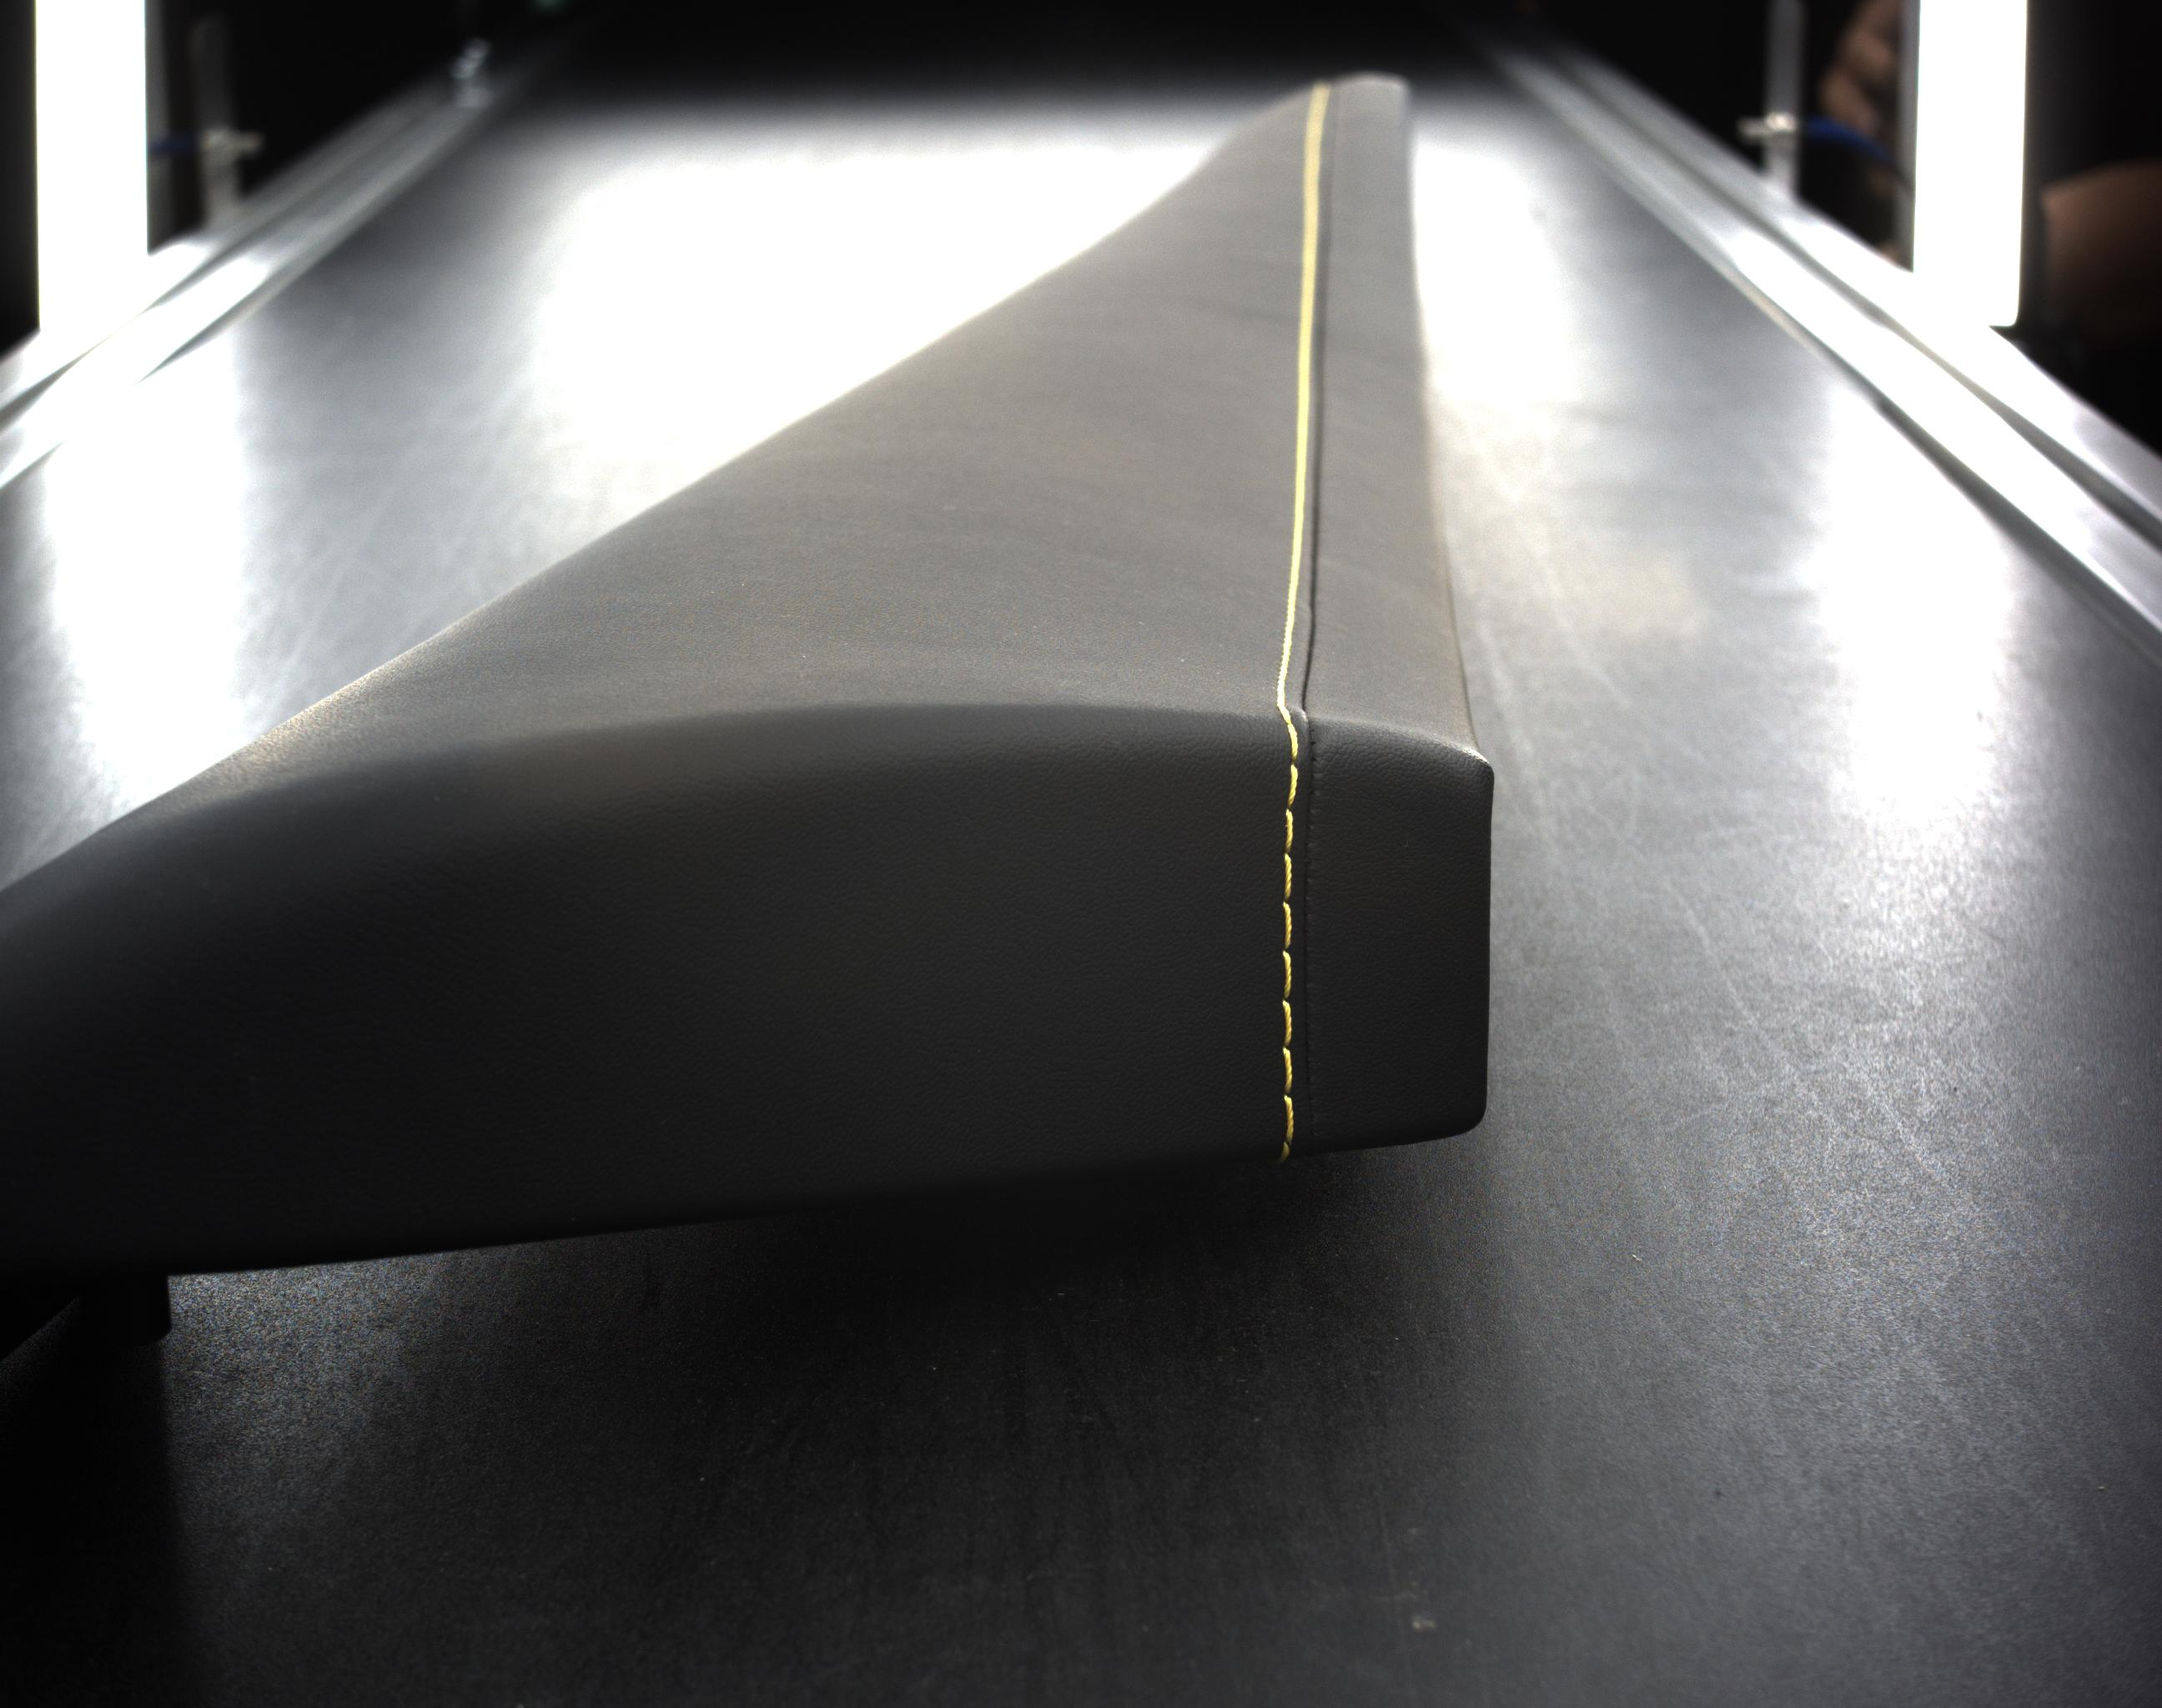vline: (1283, 1095, 1297, 1153), (1279, 999, 1295, 1044), (1281, 951, 1295, 999), (1285, 762, 1299, 807), (1281, 1044, 1295, 1088), (1281, 901, 1293, 950), (1281, 855, 1295, 897), (1283, 809, 1295, 853)
